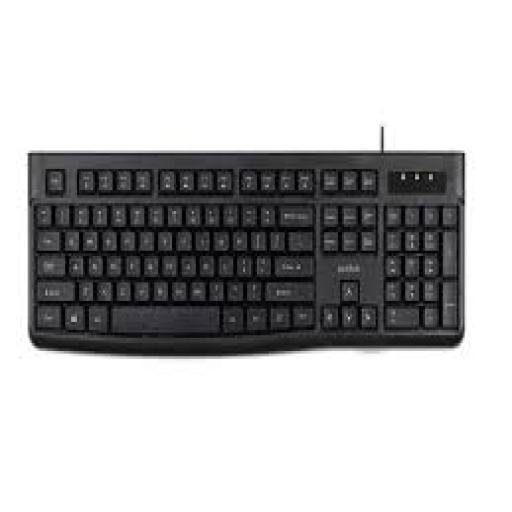keyboard: (28, 153, 463, 354)
